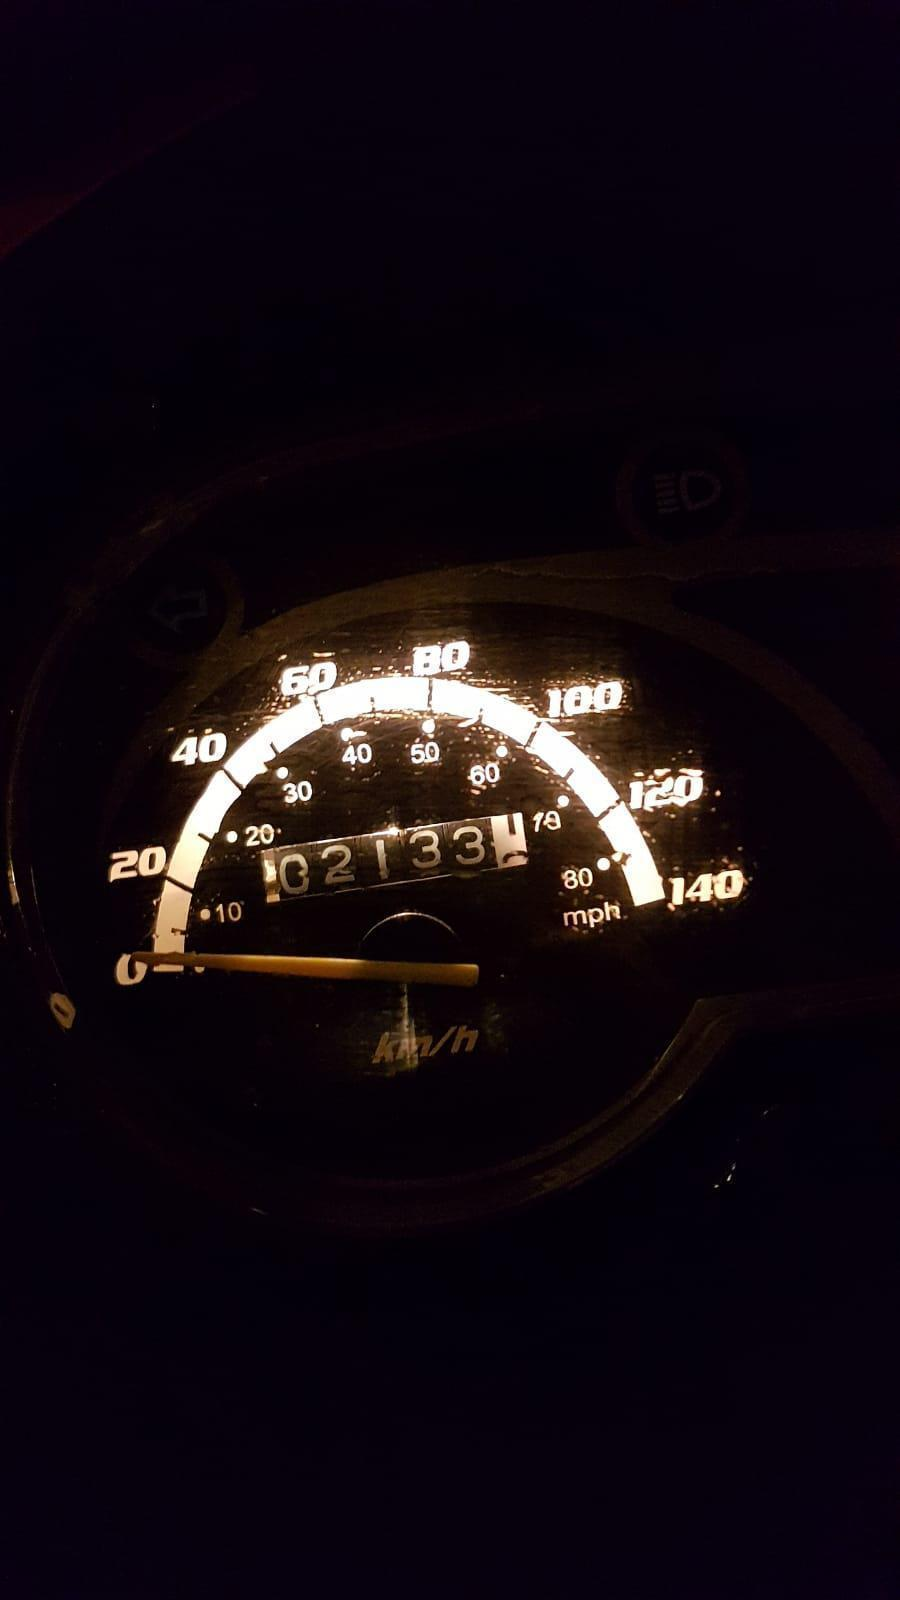0: (275, 851, 312, 899), (257, 819, 277, 844)
1: (370, 829, 395, 884), (499, 803, 525, 847)
2: (320, 834, 360, 890)
3: (451, 825, 488, 873), (405, 827, 441, 875)
odometer: (255, 805, 533, 910)
